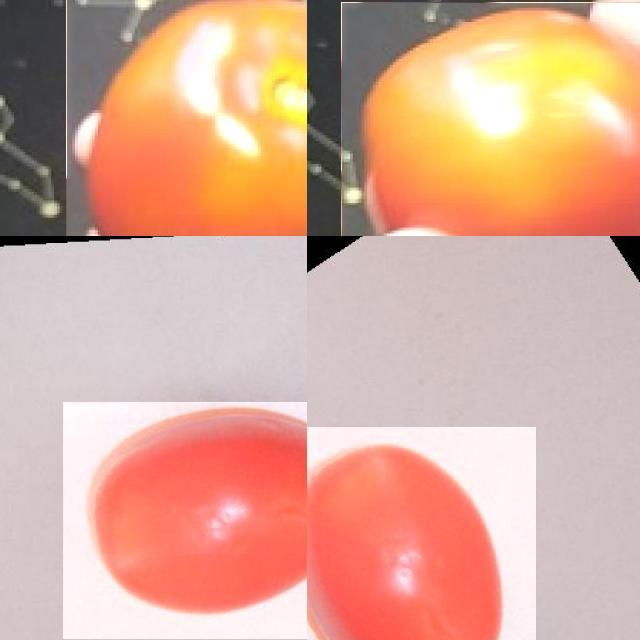Fresh Tomato: (341, 2, 640, 236), (62, 402, 307, 639), (66, 0, 307, 236), (307, 427, 535, 640)
